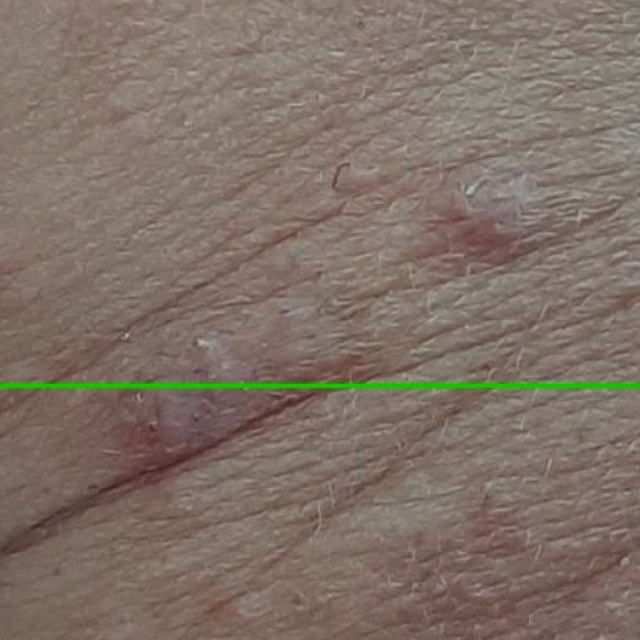Scabies: (0, 385, 639, 639)
